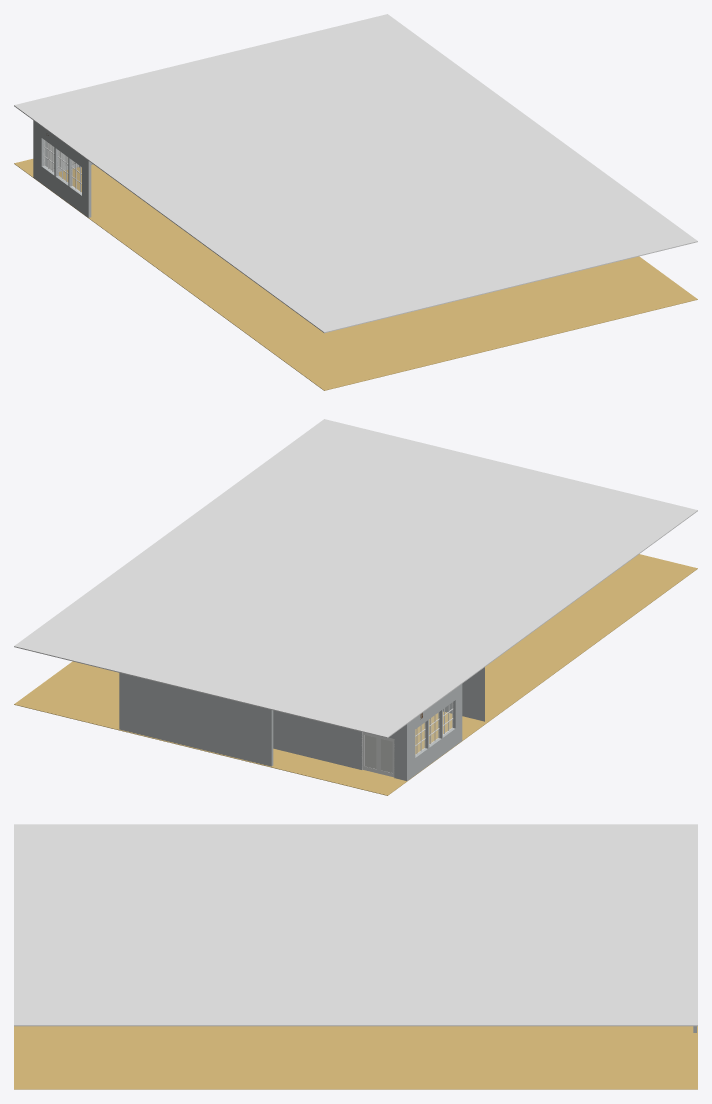
The model's file is kitchen.glb.
3 views of the same model, one above another, from view 1: azimuth 30°, elevation 25°; view 2: azimuth 150°, elevation 25°; view 3: azimuth 270°, elevation 25° (orthographic). The views are drawn at different scales.
Visible parts, largest first — view 1: room_000_ceiling_white, room_000_oak_floor, room_000_wall_gray, room_000_glass_window, room_000_paint_trim; view 2: room_000_ceiling_white, room_000_oak_floor, room_000_wall_gray, room_000_paint_trim, room_000_wall_gray_inside, room_000_glass_window, room_000_paint_white_panel; view 3: room_000_ceiling_white, room_000_oak_floor.
Part boxes in pixels (x1,y1,x2,y2): room_000_ceiling_white: (14, 14, 697, 333); room_000_oak_floor: (14, 159, 697, 390); room_000_wall_gray: (33, 120, 93, 217); room_000_glass_window: (44, 140, 81, 192); room_000_paint_trim: (43, 140, 81, 193); room_000_ceiling_white: (14, 419, 697, 738); room_000_oak_floor: (14, 554, 697, 795); room_000_wall_gray: (119, 673, 462, 780); room_000_paint_trim: (361, 702, 453, 777); room_000_wall_gray_inside: (443, 667, 484, 721); room_000_glass_window: (415, 702, 452, 755); room_000_paint_white_panel: (365, 735, 392, 772); room_000_ceiling_white: (14, 824, 697, 1026); room_000_oak_floor: (14, 1026, 697, 1089).
Size of the model in its own units: 20.84 by 3.12 by 29.97.
